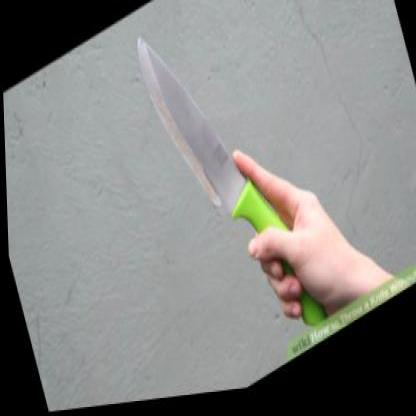knife: (119, 0, 310, 362)
